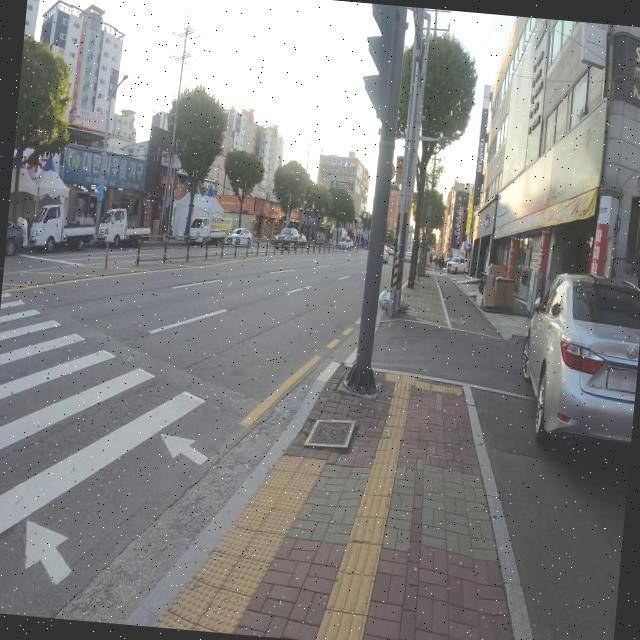crosswalk: (0, 284, 246, 615)
